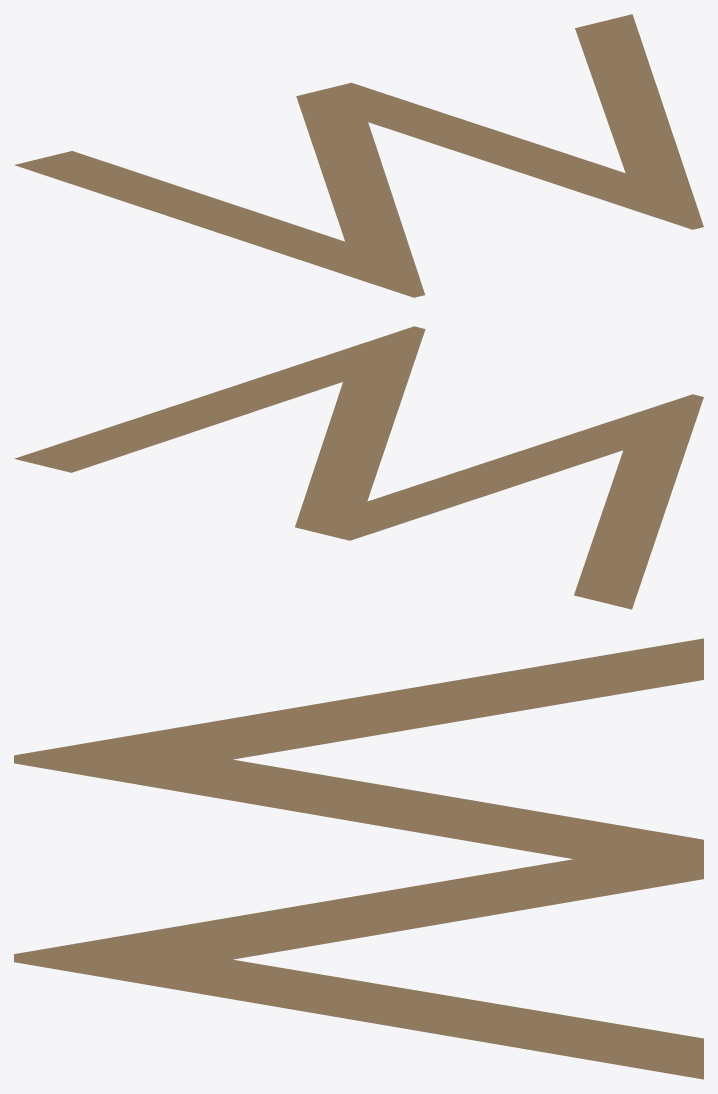
3 views of the same model, one above another, from view 1: azimuth 30°, elevation 25°; view 2: azimuth 150°, elevation 25°; view 3: azimuth 270°, elevation 25° (orthographic). The views are drawn at different scales.
Parts seen in each view (by area): view 1: Text.001; view 2: Text.001; view 3: Text.001.
Boxes of the visible parts, <box> form: Text.001: <box>14,14,703,297</box>; Text.001: <box>14,326,703,609</box>; Text.001: <box>14,638,703,1079</box>.
Size of the model in its own units: 56.57 by 6.09e-06 by 37.39.
